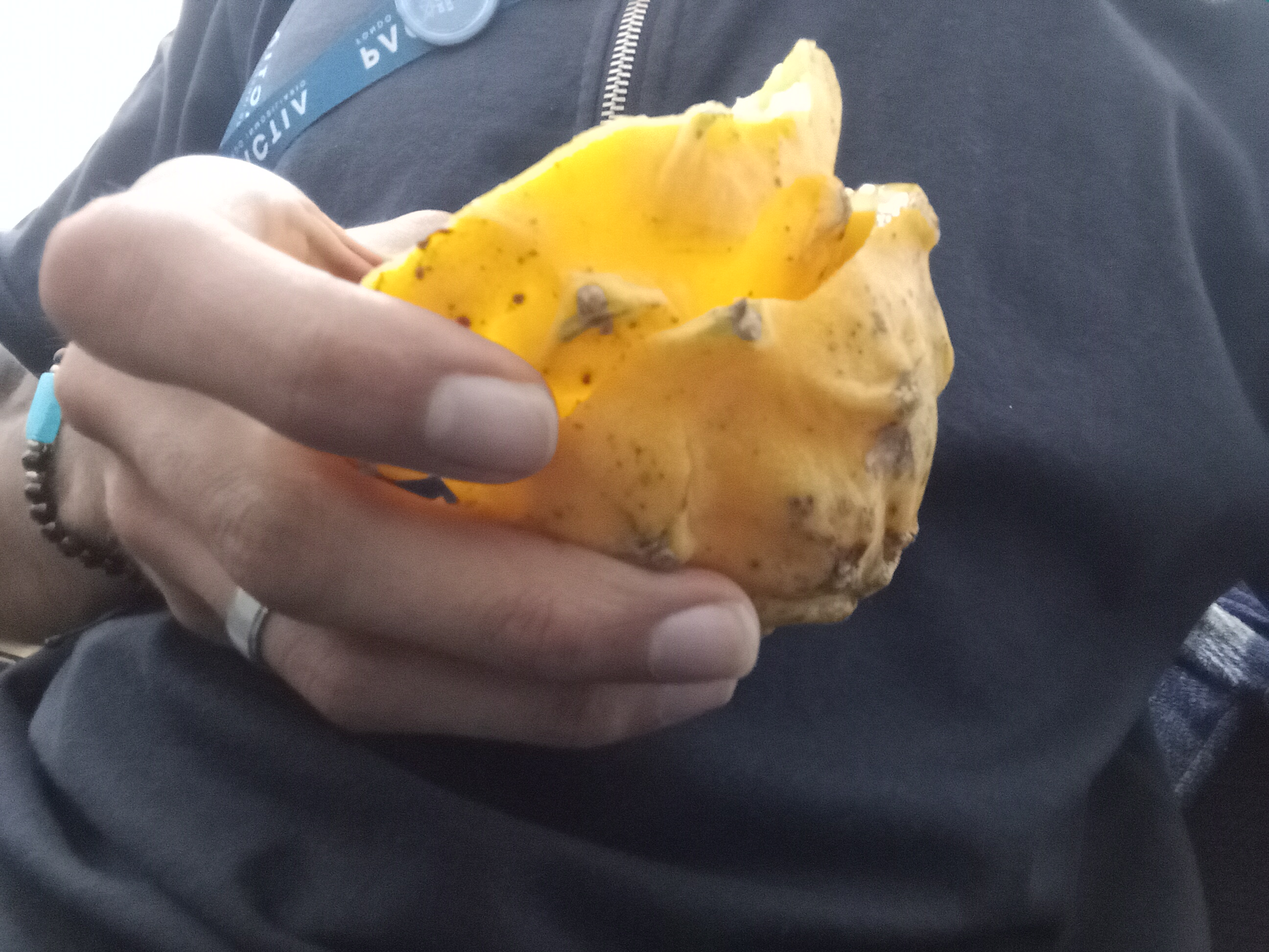Organico: (357, 36, 954, 639)
